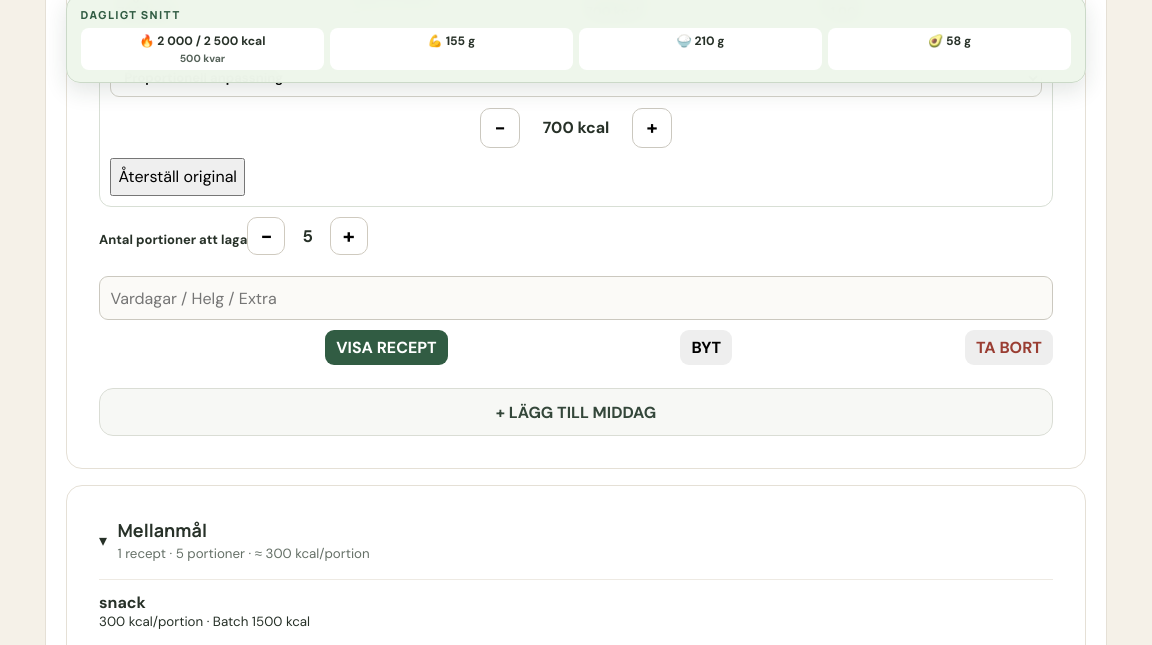
weekly campaign and planner UI › previews full-week macros in change mode, cancels cleanly and confirms consistently
(page scrolled)
Expected: the text "🔥 2 000 / 2 500 kcal 500 kvar" is shown, [81, 28, 324, 70]
Click the button "BYT" at (706, 347), box [680, 330, 732, 365]
(page scrolled)
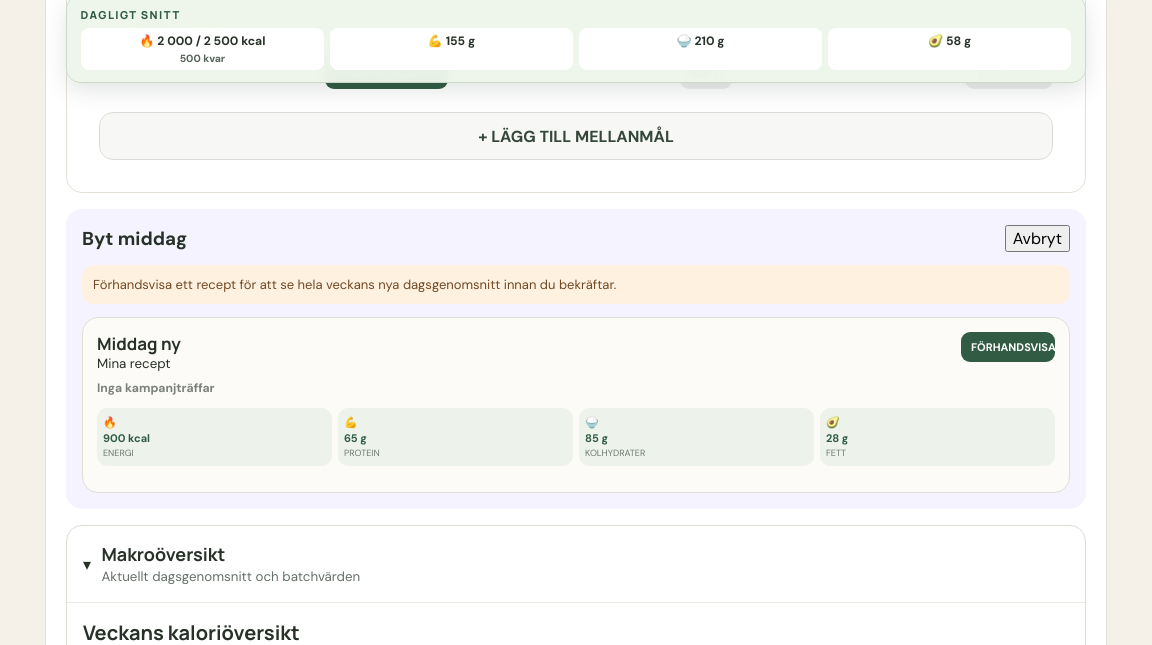
Click the button "FÖRHANDSVISA" at (1008, 347), box [961, 332, 1055, 362]
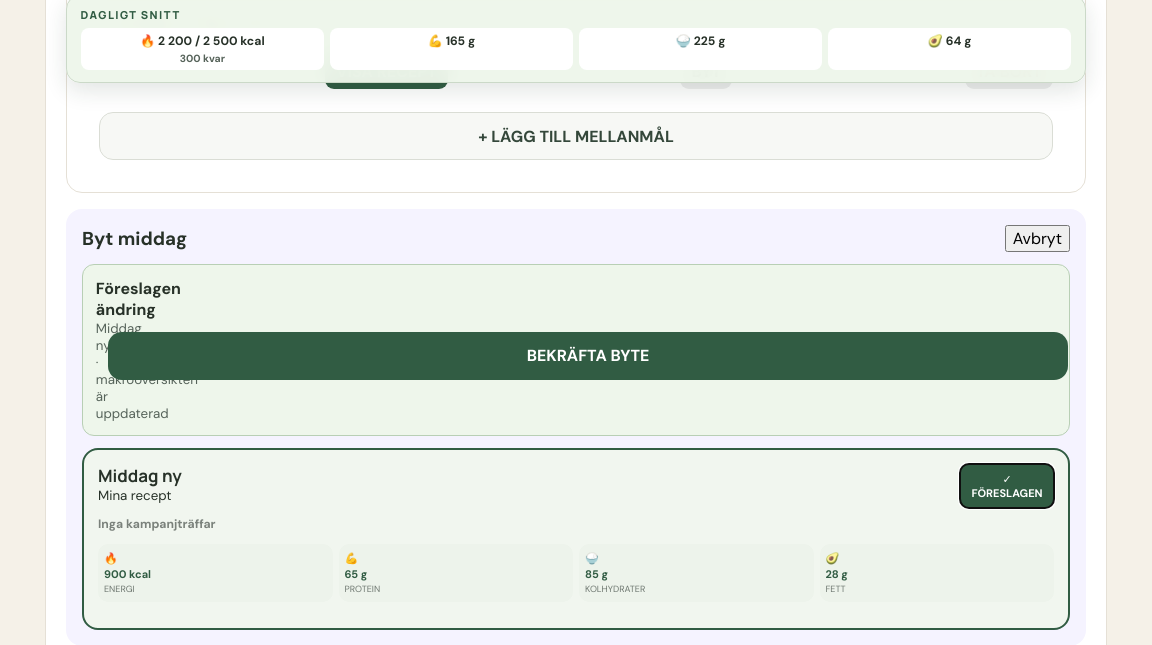
Now the text "🔥 2 200 / 2 500 kcal 300 kvar" is shown, box [81, 28, 324, 70]
Now the text "💪 165 g" is shown, box [330, 28, 573, 70]
Click the button "Avbryt" at (1037, 239), box [1005, 225, 1070, 252]
(page scrolled)
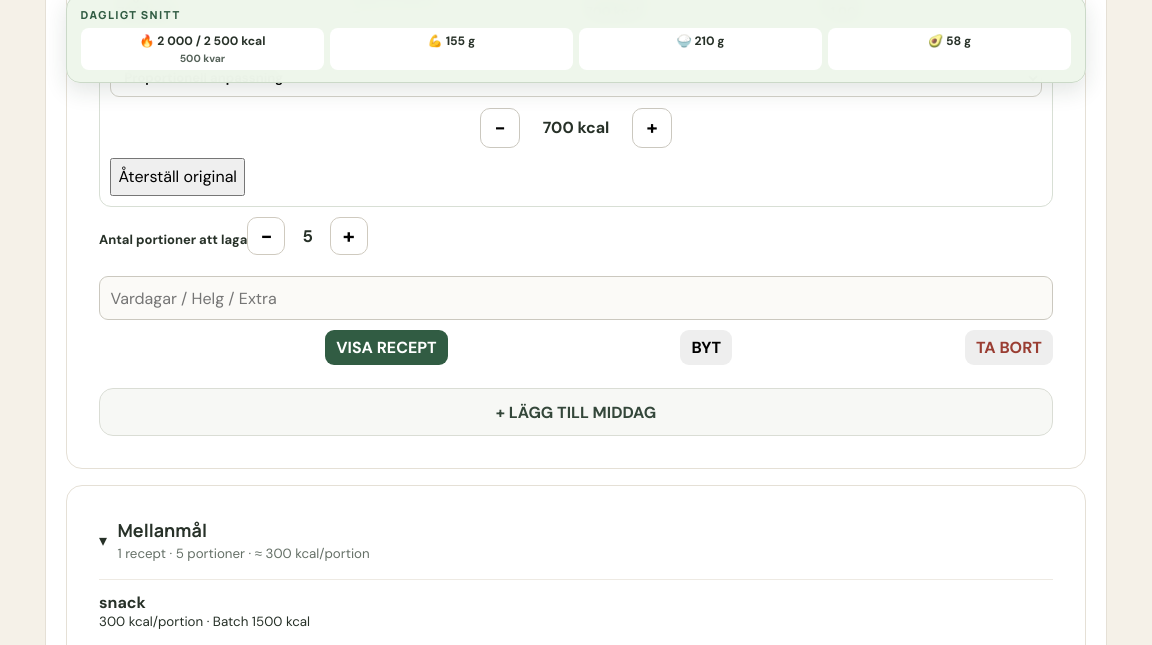
Now the text "🔥 2 000 / 2 500 kcal 500 kvar" is shown, box [81, 28, 324, 70]
Click the button "BYT" at (706, 347), box [680, 330, 732, 365]
(page scrolled)
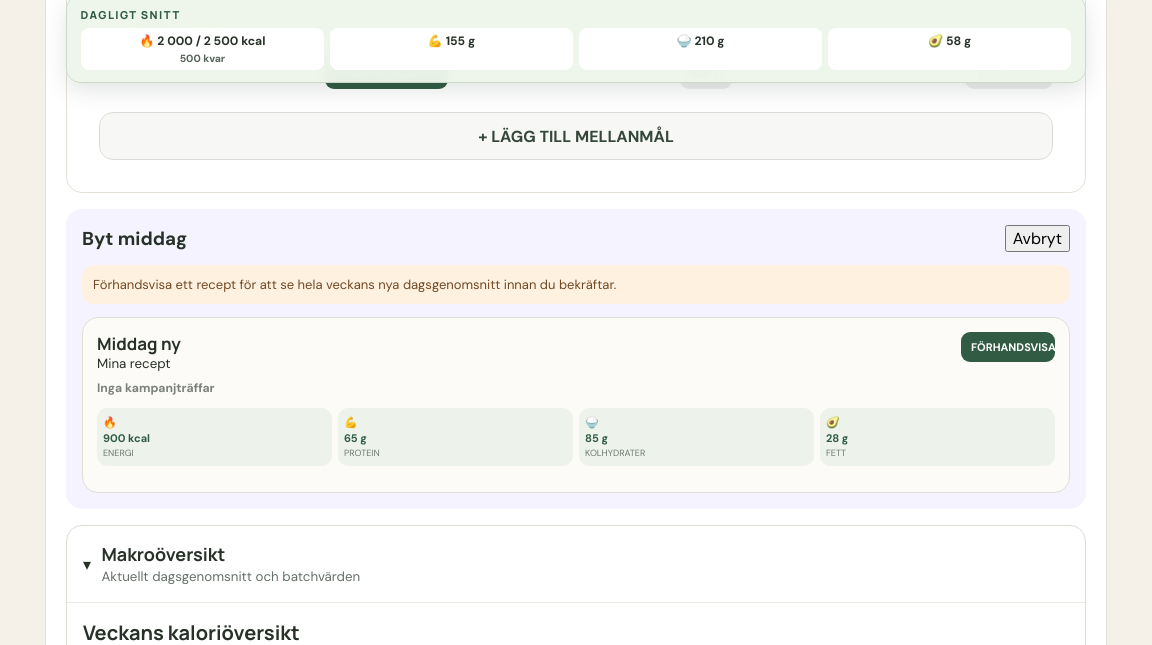
Click the button "FÖRHANDSVISA" at (1008, 347), box [961, 332, 1055, 362]
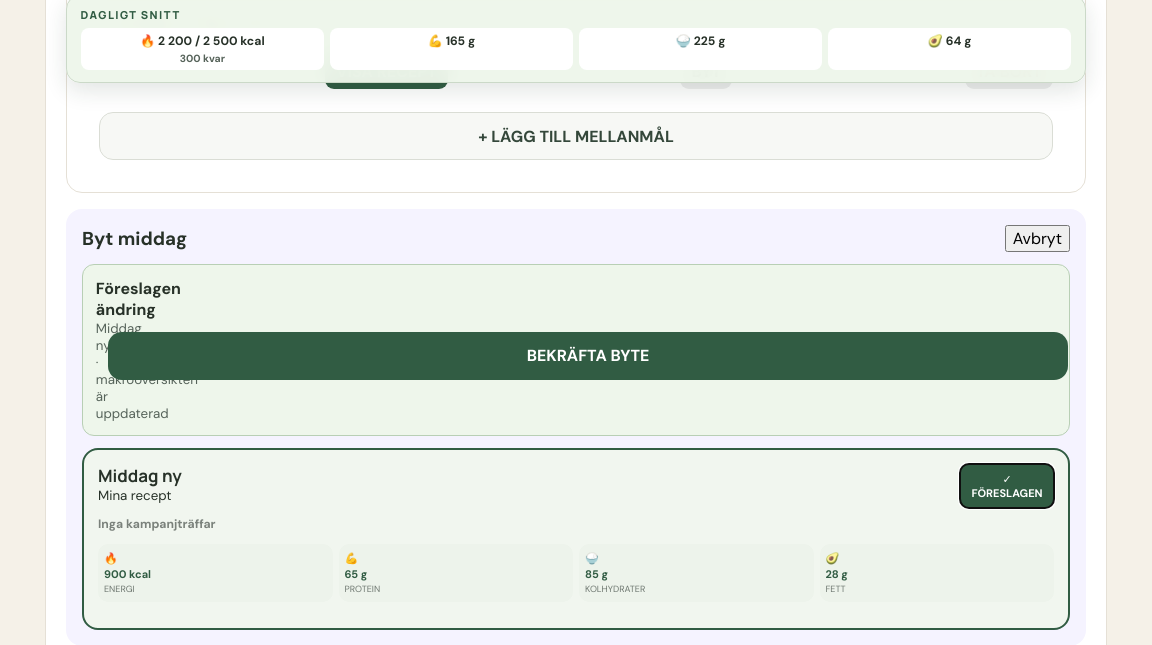
Click the button "BEKRÄFTA BYTE" at (588, 356), box [108, 332, 1068, 380]
(page scrolled)
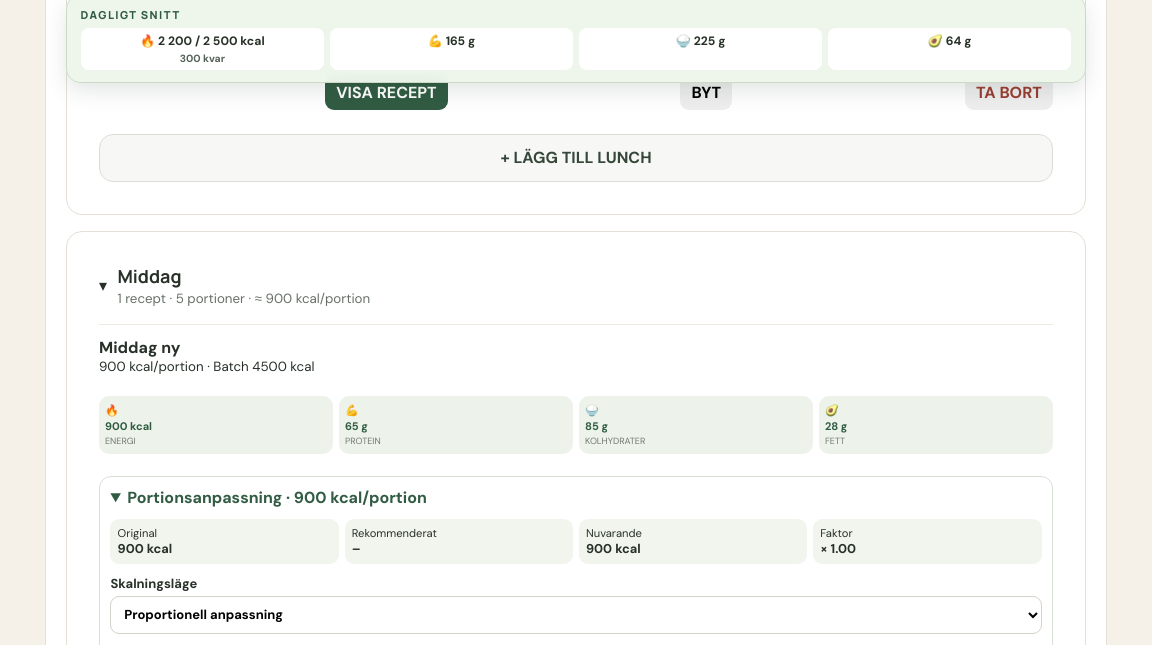
Now the text "🔥 2 200 / 2 500 kcal 300 kvar" is shown, box [81, 28, 324, 70]
Now the text "Middag ny" is shown, box [99, 337, 180, 358]
